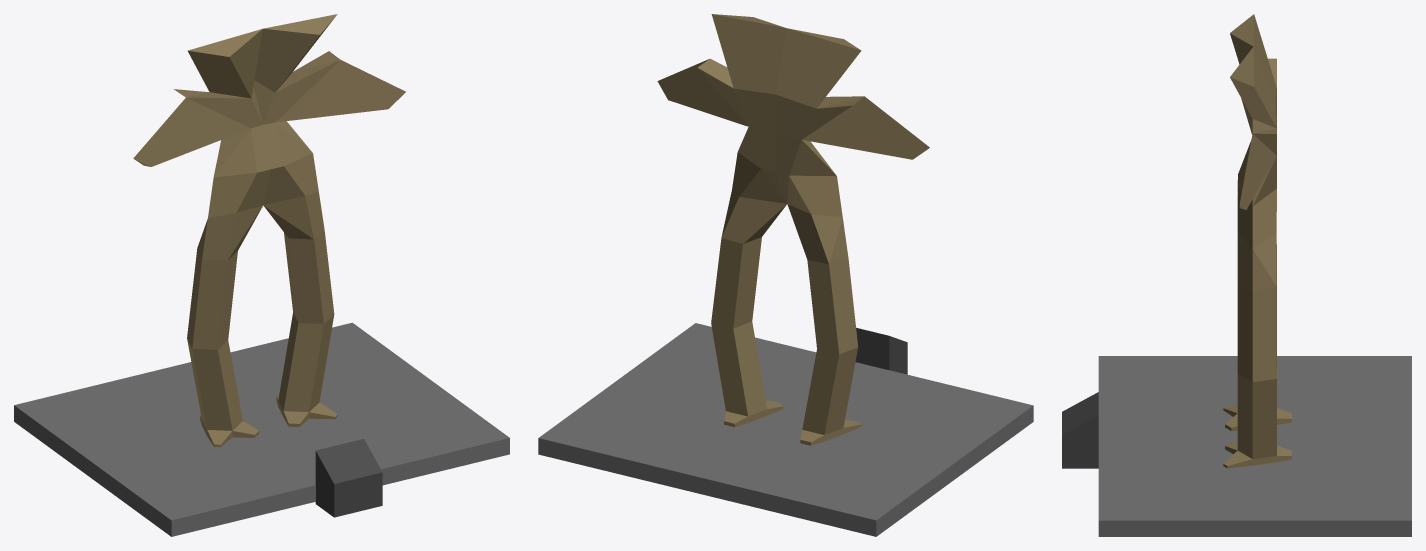
File: Sculture2.glb
The picture shows the model from 3 angles, left to right: view 1: azimuth 30°, elevation 25°; view 2: azimuth 150°, elevation 25°; view 3: azimuth 270°, elevation 25°; orthographic projection.
Parts seen in each view (by area): view 1: Cube, Circle, Poedium; view 2: Cube, Circle, Poedium; view 3: Cube, Circle, Poedium.
Part boxes in pixels (<box>): Cube: <box>14,322,509,536</box>; Circle: <box>133,14,405,447</box>; Poedium: <box>315,439,382,517</box>; Cube: <box>538,323,1033,536</box>; Circle: <box>657,14,929,445</box>; Poedium: <box>855,327,907,374</box>; Cube: <box>1098,356,1411,536</box>; Circle: <box>1223,14,1291,468</box>; Poedium: <box>1062,392,1098,468</box>.
Bounding box in the file's own units: 6.35 × 7.39 × 5.71.
